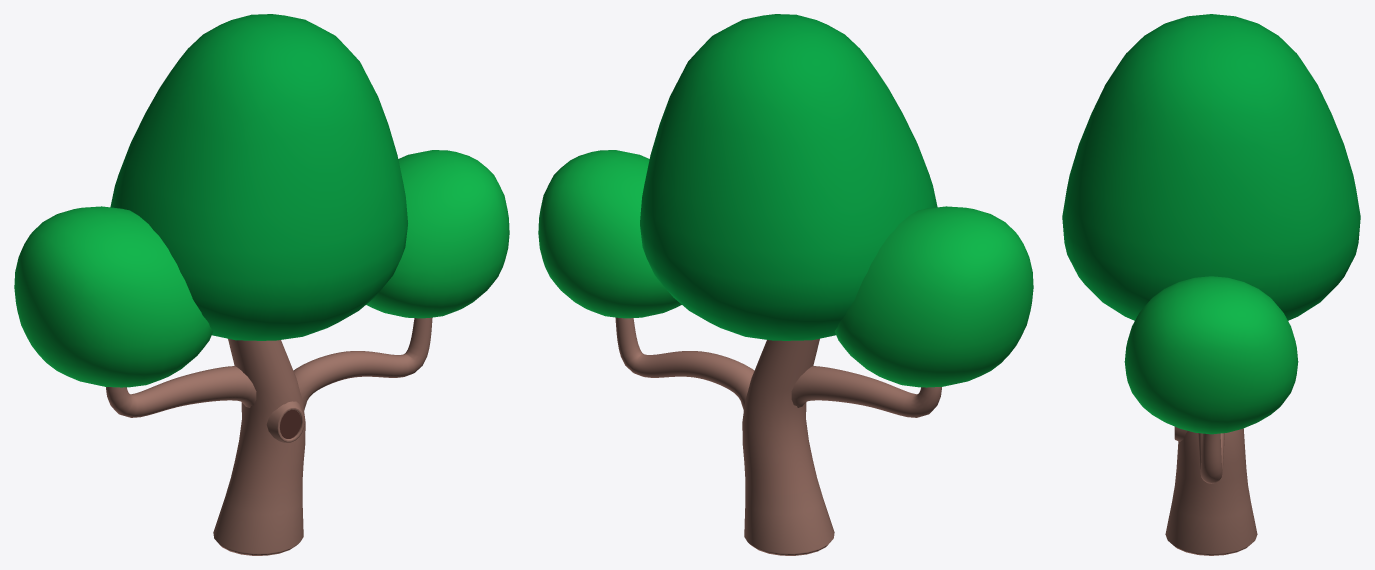
Rendered from Farm_20_Tree_1.glb.
The picture shows the model from 3 angles, left to right: view 1: azimuth 30°, elevation 25°; view 2: azimuth 150°, elevation 25°; view 3: azimuth 270°, elevation 25°; orthographic projection.
Parts seen in each view (by area): view 1: Farm_20_Tree_1; view 2: Farm_20_Tree_1; view 3: Farm_20_Tree_1.
Part boxes in pixels (x1,y1,x2,y2): Farm_20_Tree_1: (14,14,509,555); Farm_20_Tree_1: (538,14,1033,555); Farm_20_Tree_1: (1062,14,1360,555).
Bounding box in the file's own units: 8.49 × 8.86 × 4.64.
Materials: 1 (1 with a texture image).
